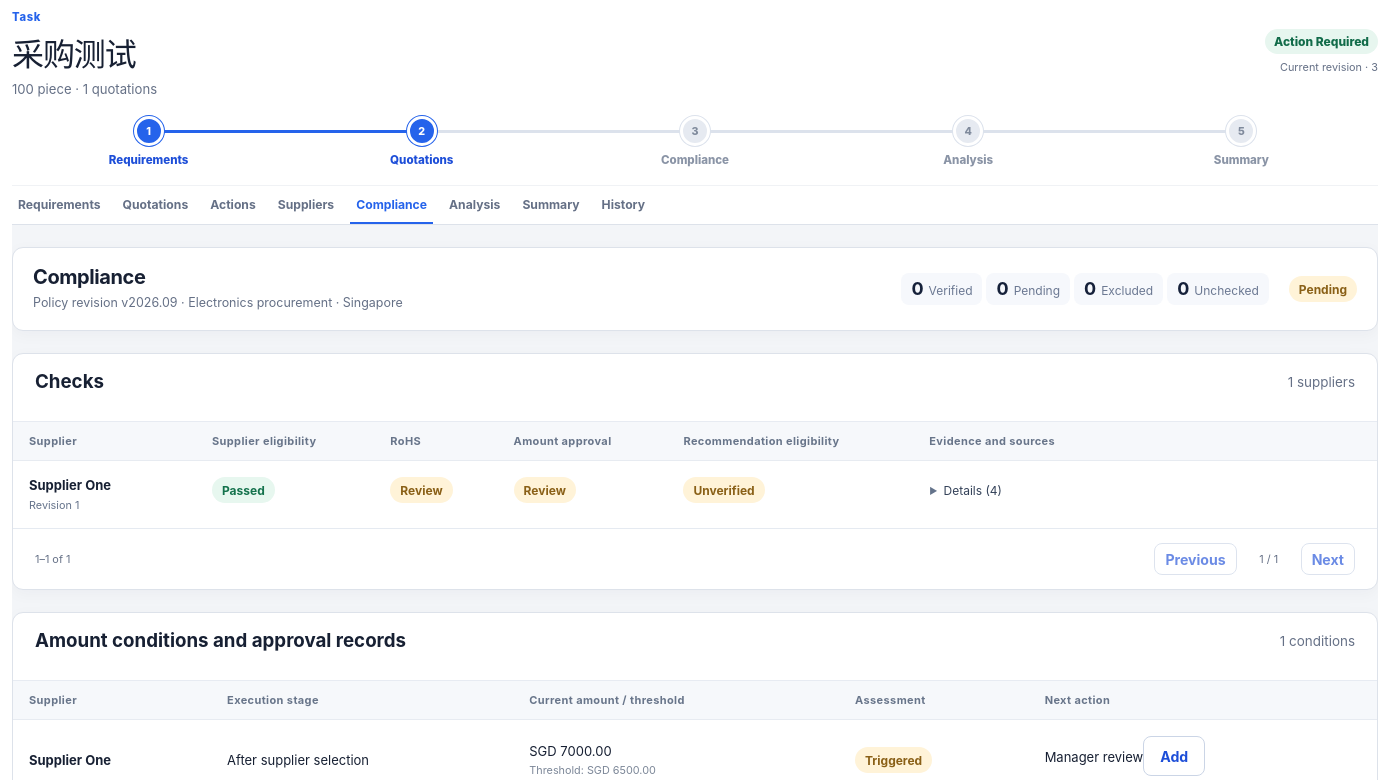
Test case: bound policy summary and separate control columns preserve incomplete multi-clause checks
This screenshot has width=1390, height=780.
Expected: the text "Policy revision v2026.09 · Electronics procurement · Singapore" is shown, [33,295,403,310]
Expected: the column heading "Supplier eligibility" is shown, [196,422,374,460]
Click the button named "Expand Supplier One Checks and Evidence".
click(966, 490)  # box [929,479,1002,502]
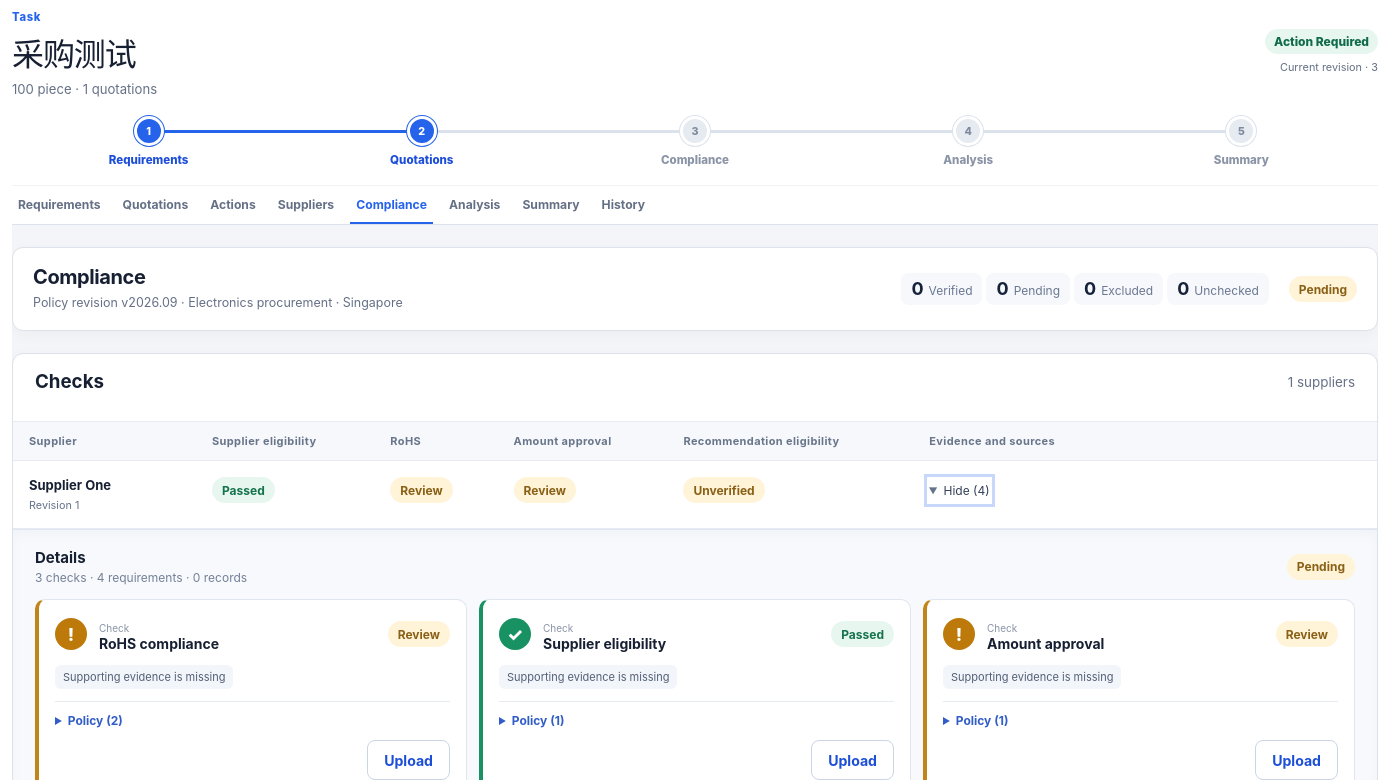
Now the 3rd button "Upload" is shown, box [1255,740,1338,779]
